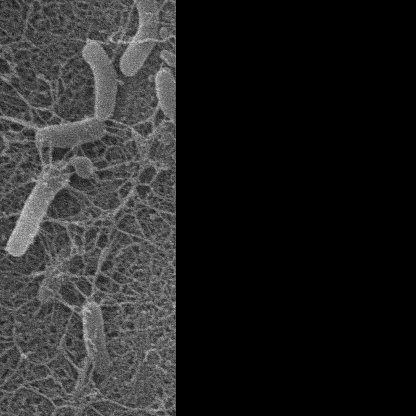cell2cell: (45, 142, 56, 169), (41, 137, 48, 172)
cell2surface: (70, 181, 113, 226), (0, 96, 45, 137), (45, 217, 89, 235), (0, 212, 22, 224)
curved: (118, 0, 161, 76)
regular: (9, 165, 64, 256), (39, 115, 104, 151), (84, 305, 111, 380), (86, 44, 113, 113)
